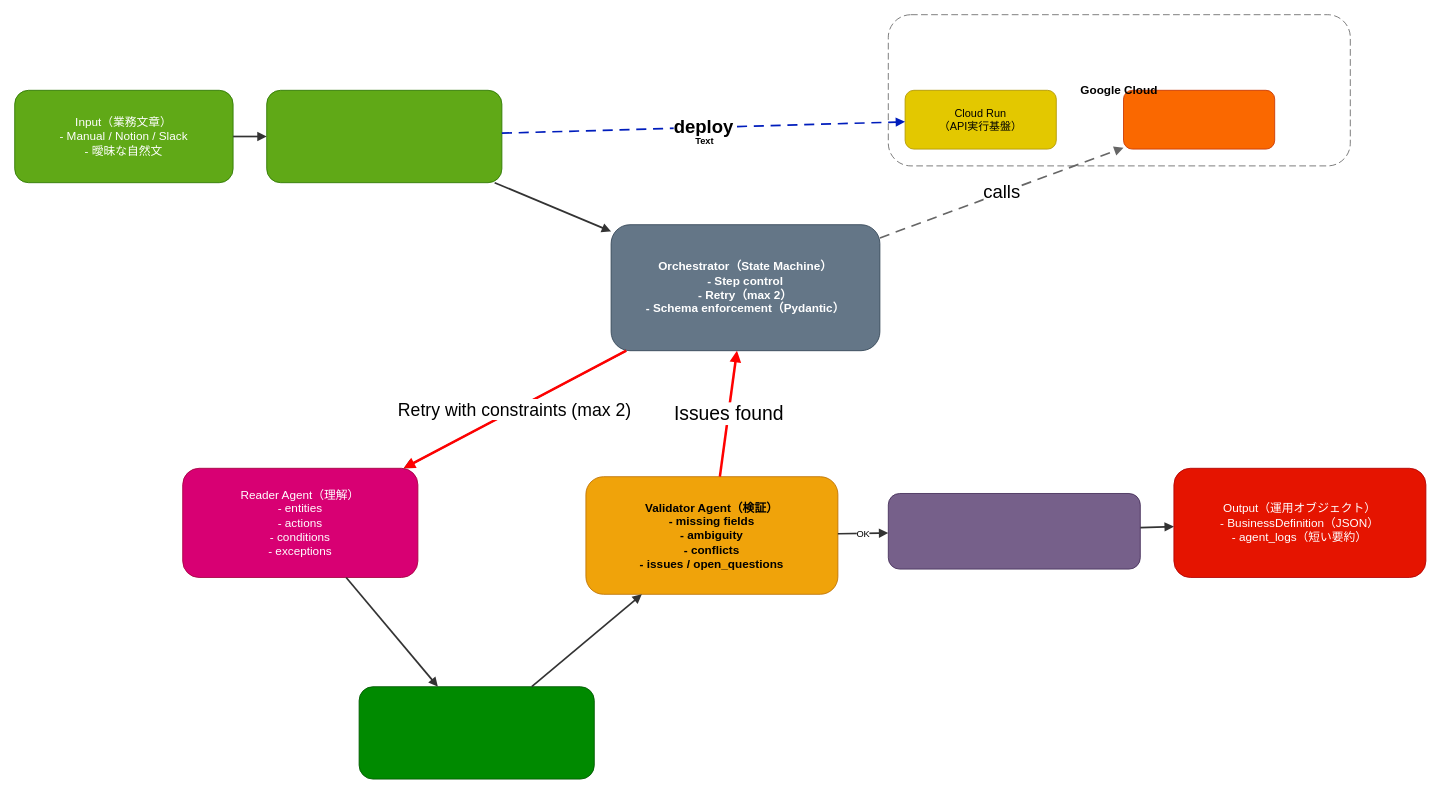
Image size: 1441x794. Some labels were removed from this diagram. The shapes that lost their labels are listed below. From the top down, each one's centre as x and y in pixels, then its label:
the point at 384,136: Web UI / API Client - テキスト入力 - Convert 実行 - 結果表示（JSON + logs）
the point at 1199,119: Gemini API / ADK （LLM / Agent）
the point at 1013,531: Generator Agent（生成） - schema-valid JSON only
the point at 476,732: Planner Agent（分解） - task units - roles - triggers
